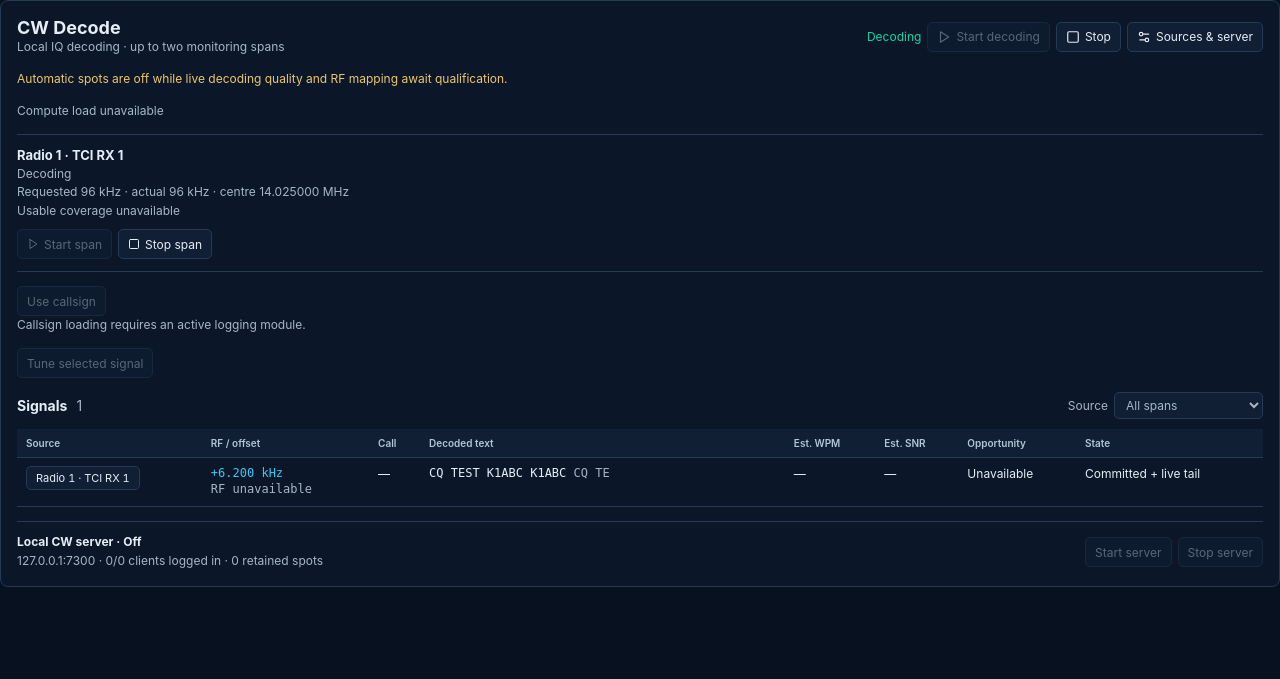
Scenario: CW Decode shared native view › shows measured sample ages separately from model time; measured=false
Click the button with aria-label "Inspect signal" at (83, 478), box x1=26 y1=466 x2=140 y2=490
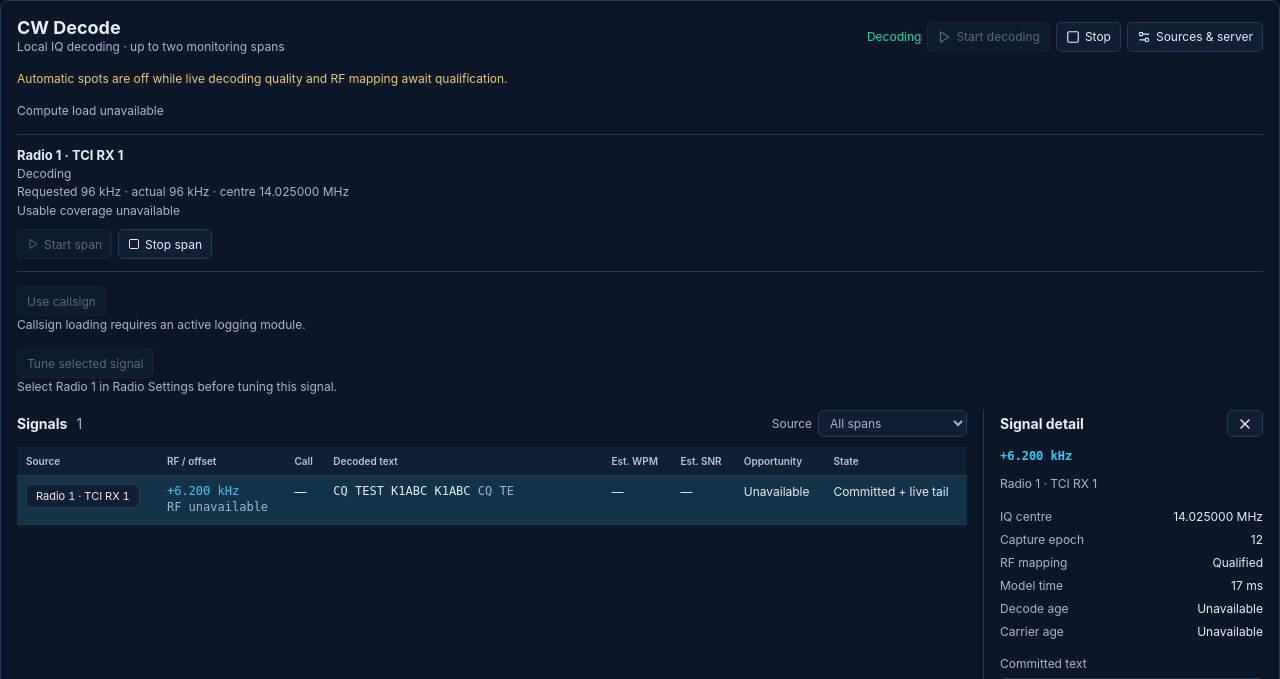
Expected: the text "RF unavailable" is shown, x1=167 y1=498 x2=276 y2=516
Expected: the text "17 ms" is shown, x1=1231 y1=578 x2=1263 y2=593
Expected: the text "Unavailable" next to "Carrier age" is shown, x1=1197 y1=624 x2=1263 y2=639
